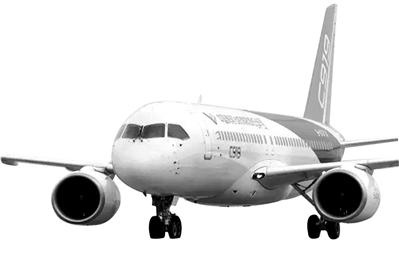airplane: (1, 5, 399, 240)
